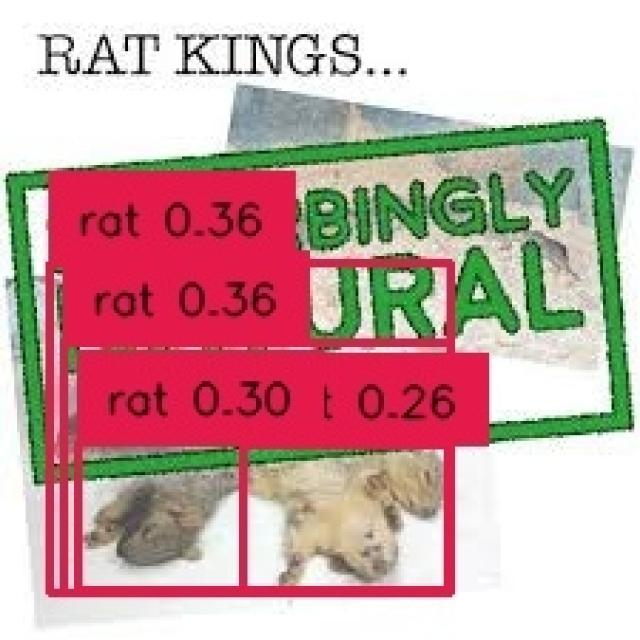rat: (46, 259, 447, 589), (59, 338, 447, 589), (74, 438, 447, 586), (239, 441, 444, 589)
